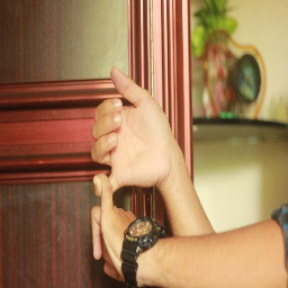S: (84, 62, 178, 284)
